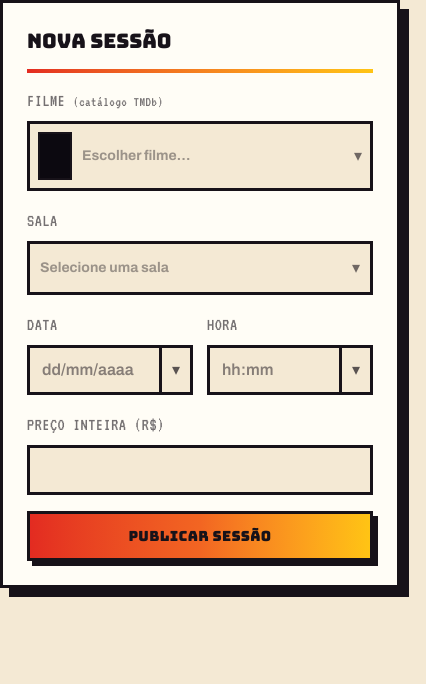
Test: FormSessao › refuses to submit without a movie
Click the button "PUBLICAR SESSÃO". click: (200, 536)
box: [27, 511, 373, 561]
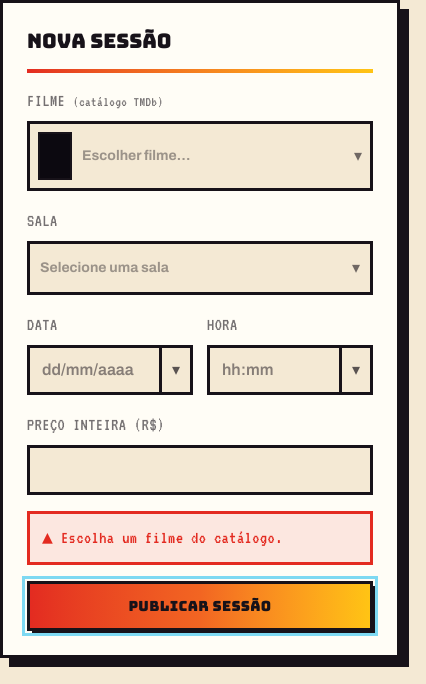
Result: the message shows "Escolha um filme" at [61, 529, 283, 547]
